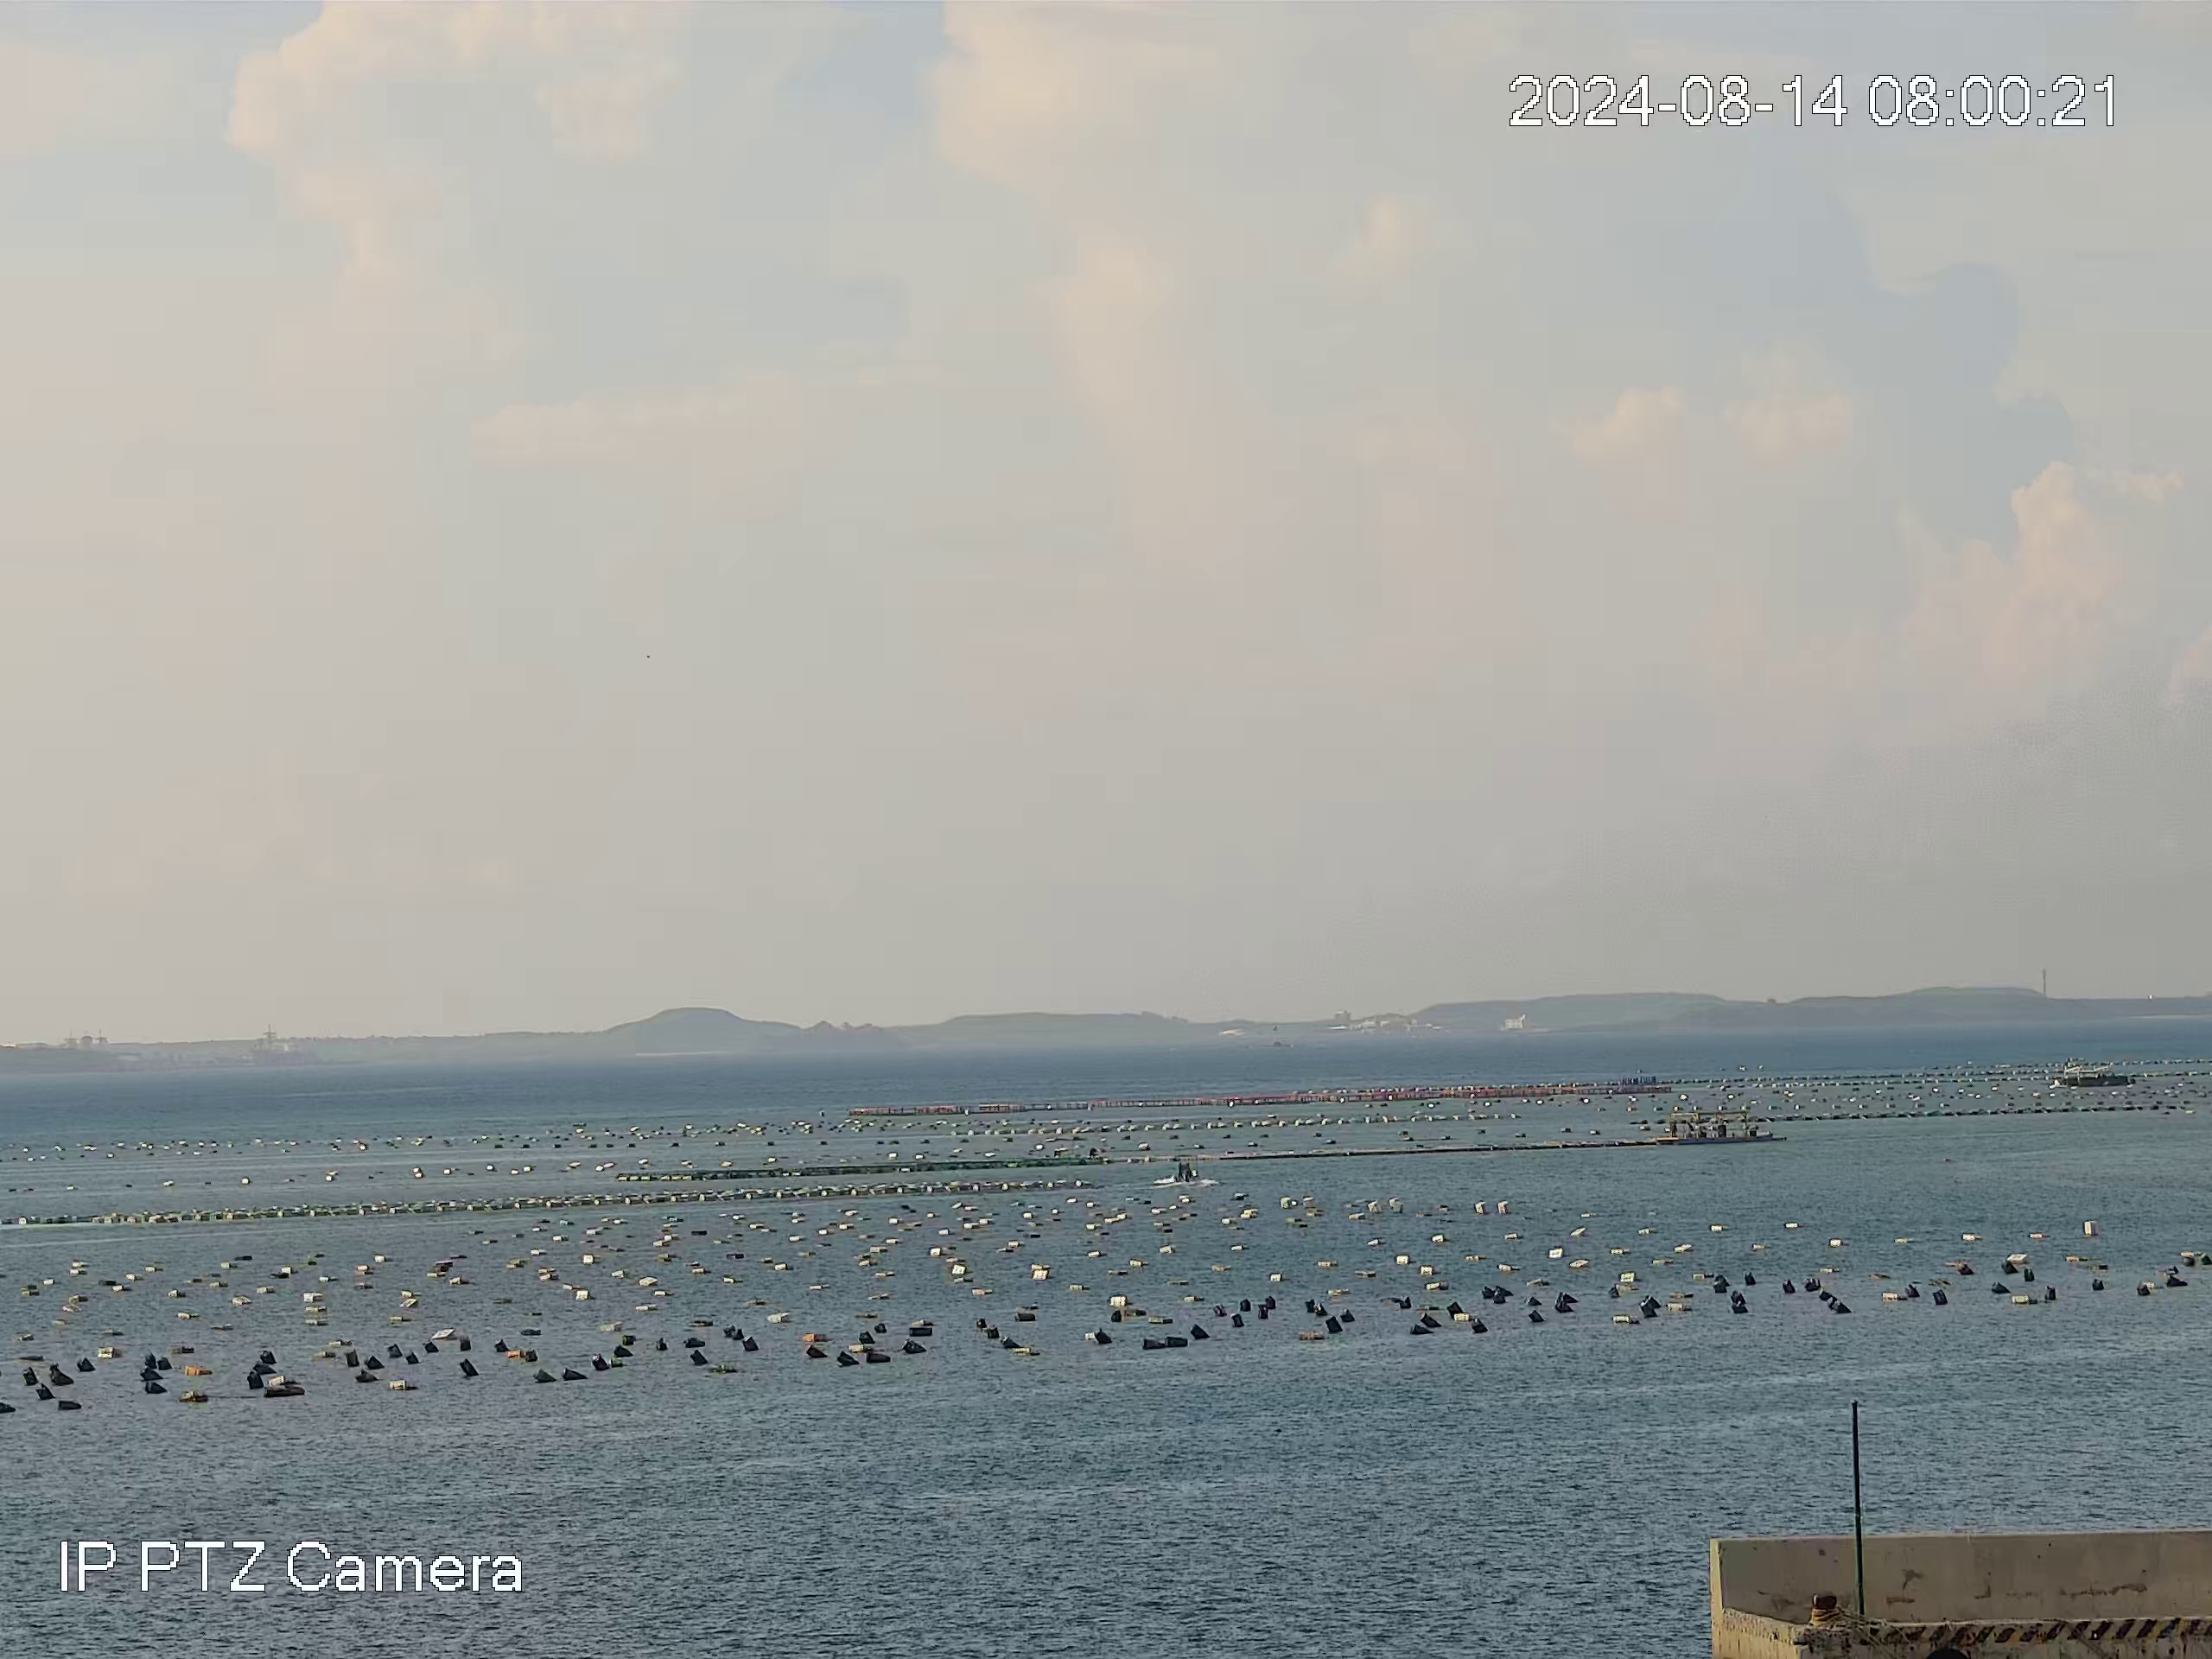boat: (1658, 1110, 1785, 1148), (1160, 1148, 1214, 1190), (2057, 1065, 2139, 1089)
